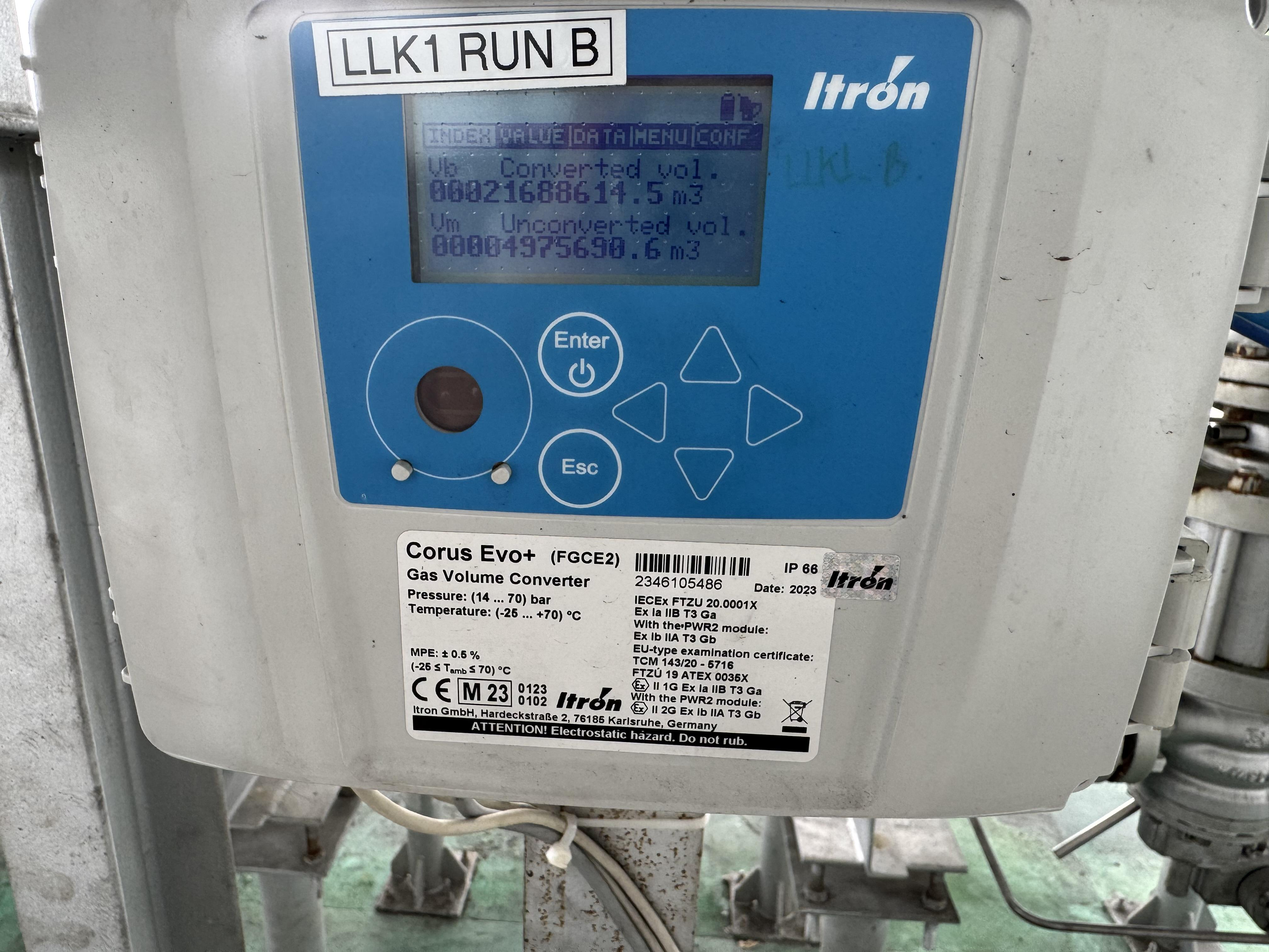digital_screen: (400, 71, 773, 287)
